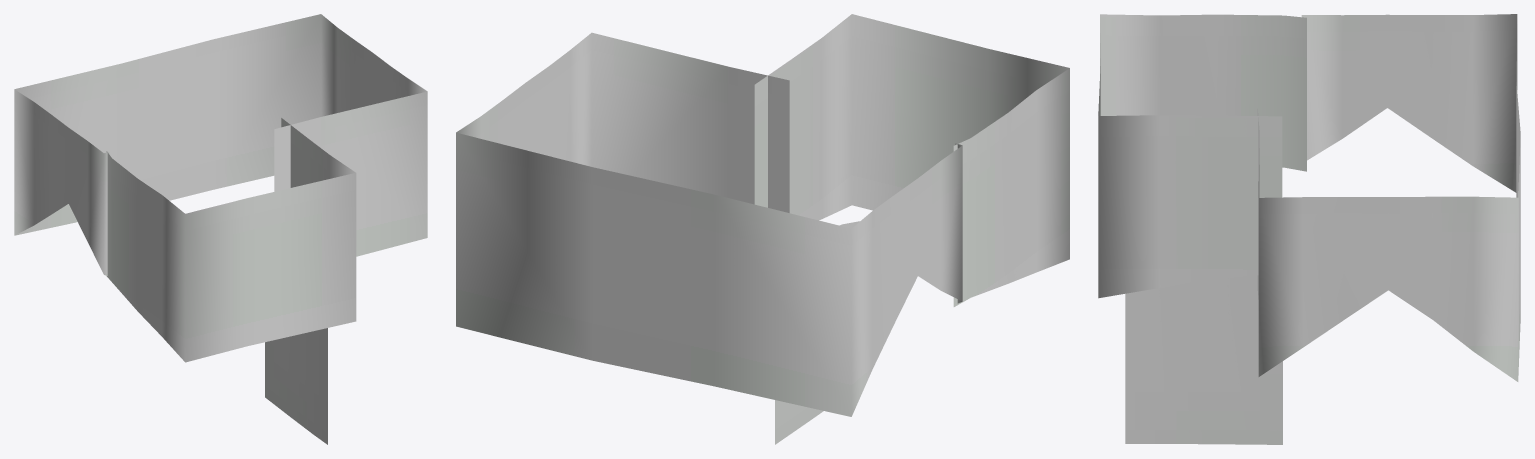
Rendered from Q406_ALPHA.glb.
The picture shows the model from 3 angles, left to right: view 1: azimuth 30°, elevation 25°; view 2: azimuth 150°, elevation 25°; view 3: azimuth 270°, elevation 25°; orthographic projection. The views are drawn at different scales.
Visible parts, largest first — view 1: Mesh; view 2: Mesh; view 3: Mesh.
Part boxes in pixels (x1,y1,x2,y2): Mesh: (14,14,427,444); Mesh: (456,14,1069,444); Mesh: (1098,14,1520,444).
Bounding box in the file's own units: 14.56 × 12.49 × 14.13.
Materials: 1 (1 with a texture image).
